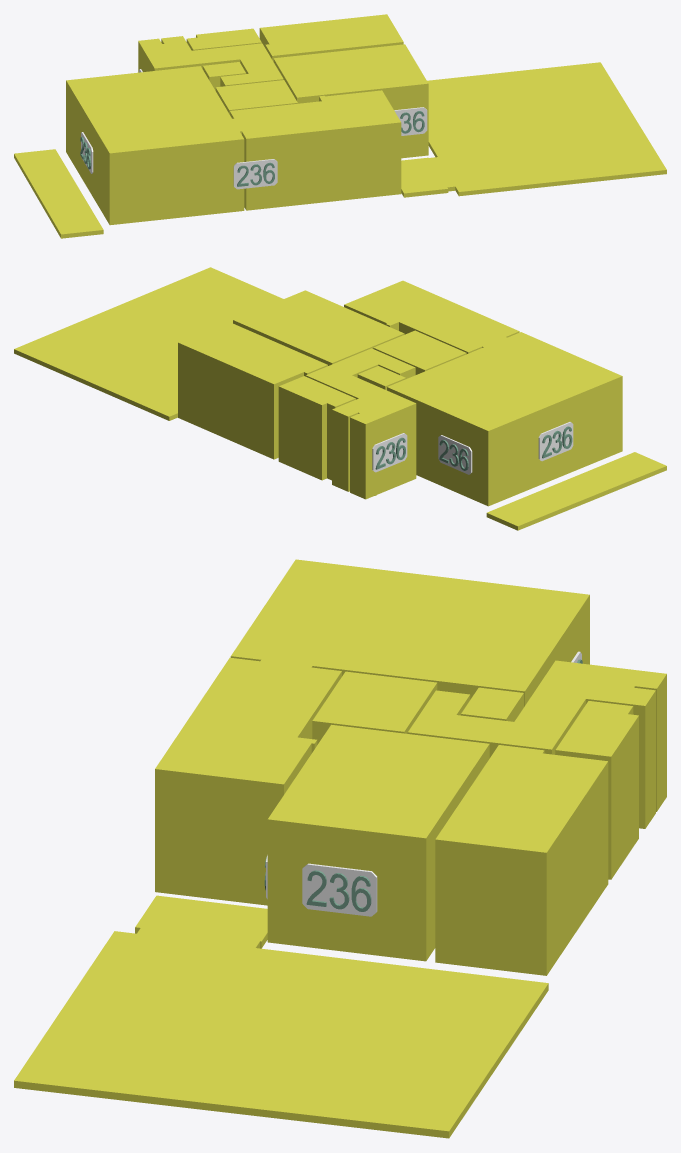
3 renders of one model, top to bottom at view 1: azimuth 30°, elevation 25°; view 2: azimuth 150°, elevation 25°; view 3: azimuth 270°, elevation 25°, orthographic. The views are drawn at different scales.
Visible parts, largest first — view 1: g_8, g_7, g_2, g_1, g_0, g_9, g_5, g_3, g_6, g_13, g_4, g_29; view 2: g_7, g_8, g_0, g_5, g_1, g_2, g_6, g_9, g_3, g_17, g_21, g_33 (+1 smaller); view 3: g_8, g_1, g_7, g_0, g_2, g_5, g_6, g_3, g_25, g_4.
Boxes of the visible parts, x1,y1,x2,y2 form: g_8: [401, 62, 666, 197]; g_7: [66, 66, 244, 225]; g_2: [229, 90, 401, 210]; g_1: [273, 44, 428, 158]; g_0: [259, 14, 403, 61]; g_9: [14, 149, 103, 238]; g_5: [138, 36, 283, 86]; g_3: [215, 80, 297, 113]; g_6: [186, 28, 261, 50]; g_13: [233, 159, 277, 189]; g_4: [202, 62, 246, 90]; g_29: [394, 107, 427, 135]; g_7: [387, 332, 622, 506]; g_8: [14, 267, 283, 420]; g_0: [178, 322, 327, 459]; g_5: [306, 348, 416, 499]; g_1: [233, 290, 404, 365]; g_2: [344, 280, 519, 353]; g_6: [278, 376, 355, 480]; g_9: [486, 452, 666, 530]; g_3: [373, 330, 466, 374]; g_17: [372, 433, 407, 472]; g_21: [538, 422, 573, 461]; g_33: [438, 435, 472, 474]; g_8: [14, 895, 548, 1138]; g_1: [267, 724, 489, 961]; g_7: [230, 559, 589, 706]; g_0: [435, 745, 608, 975]; g_2: [155, 657, 341, 905]; g_5: [407, 660, 666, 828]; g_6: [555, 701, 638, 879]; g_3: [312, 671, 437, 744]; g_25: [302, 863, 377, 916]; g_4: [461, 687, 523, 721].
Size of the model in its own units: 21.81 by 2.74 by 12.38.
